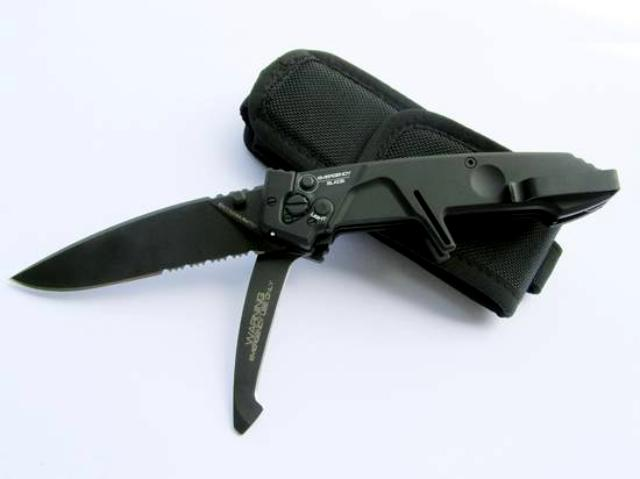pocket-knife: (4, 138, 622, 298)
